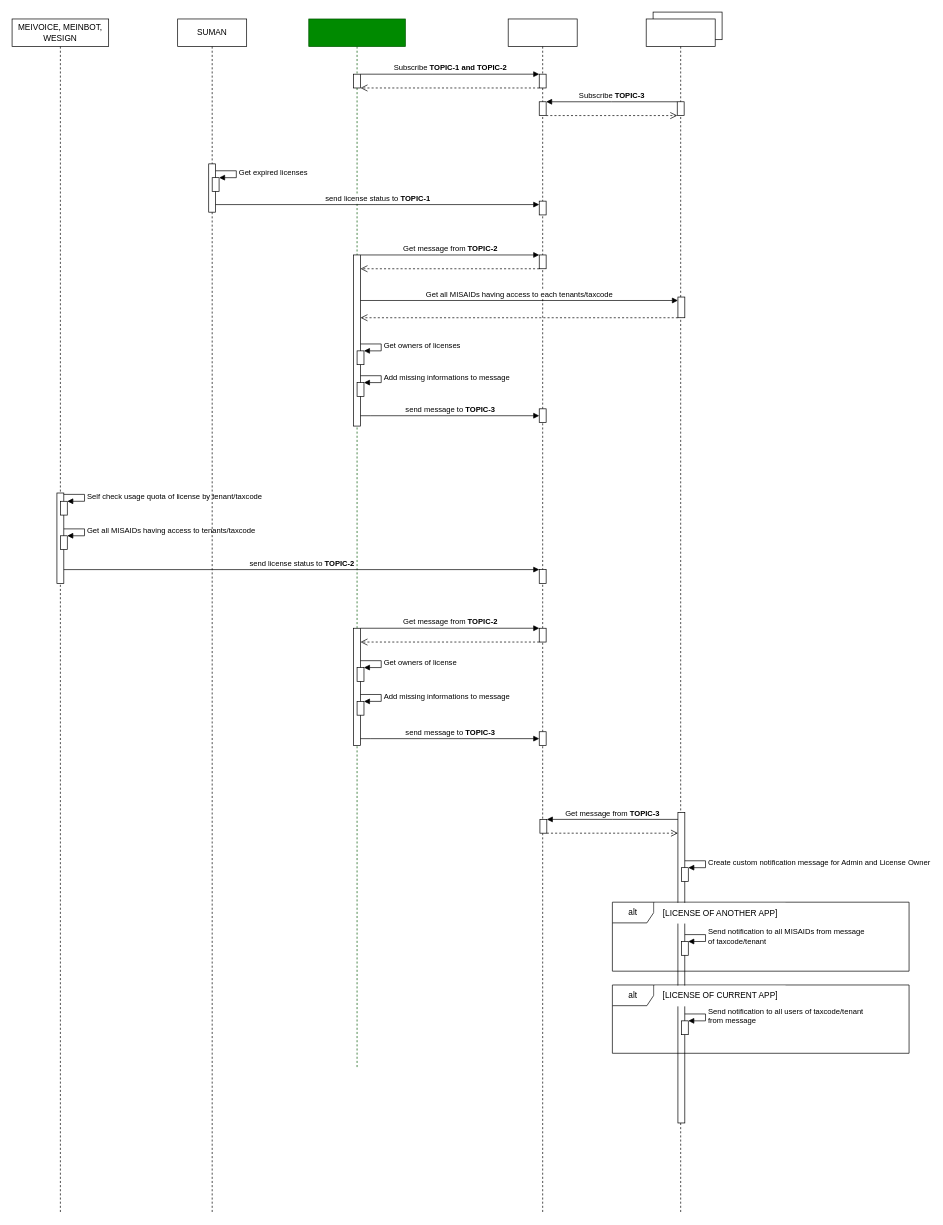
The diagram is 943 pixels wide and 1225 high, and some of its shapes have lost their labels. Here are the shapes that lost their labels. From the top down, the box of each, then its label:
(308, 18, 405, 1068): MISA LICENSE NOTIFYING CENTER
(507, 18, 577, 1213): MISA Sync Service
(645, 18, 715, 1213): ALL MISA APPLICATIONS
